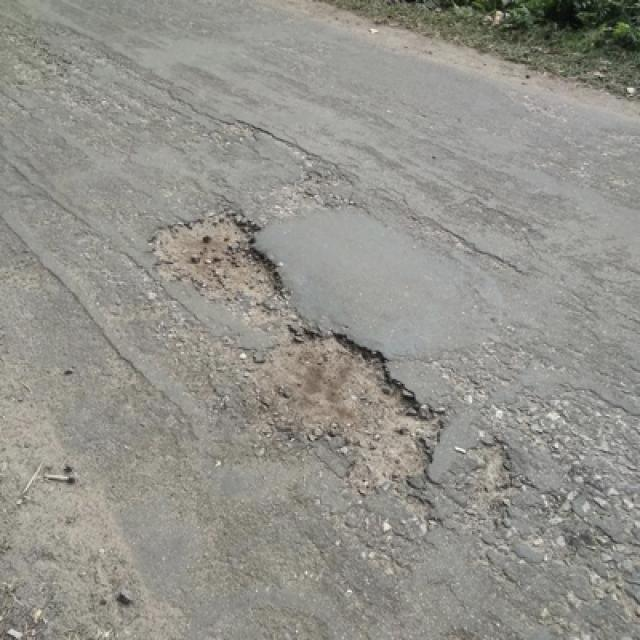Pothole: (240, 328, 443, 486), (143, 204, 294, 314), (466, 443, 516, 496)
